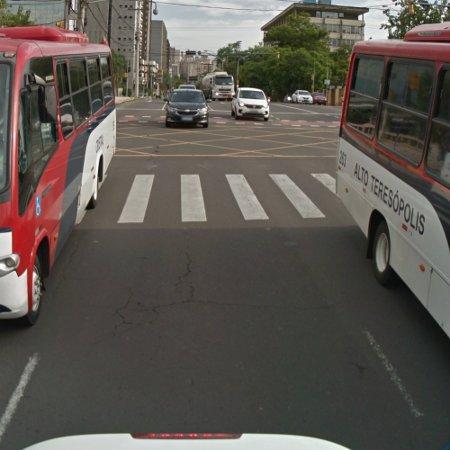crosswalks: (117, 170, 338, 226)
